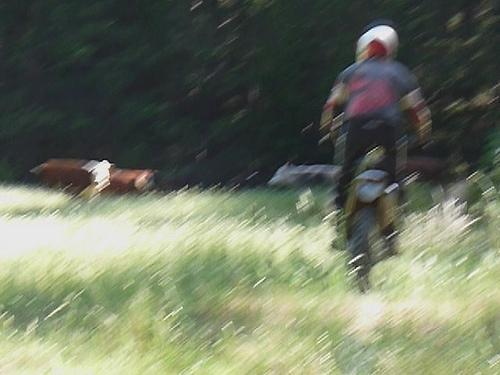motorcycle: (343, 119, 400, 300)
